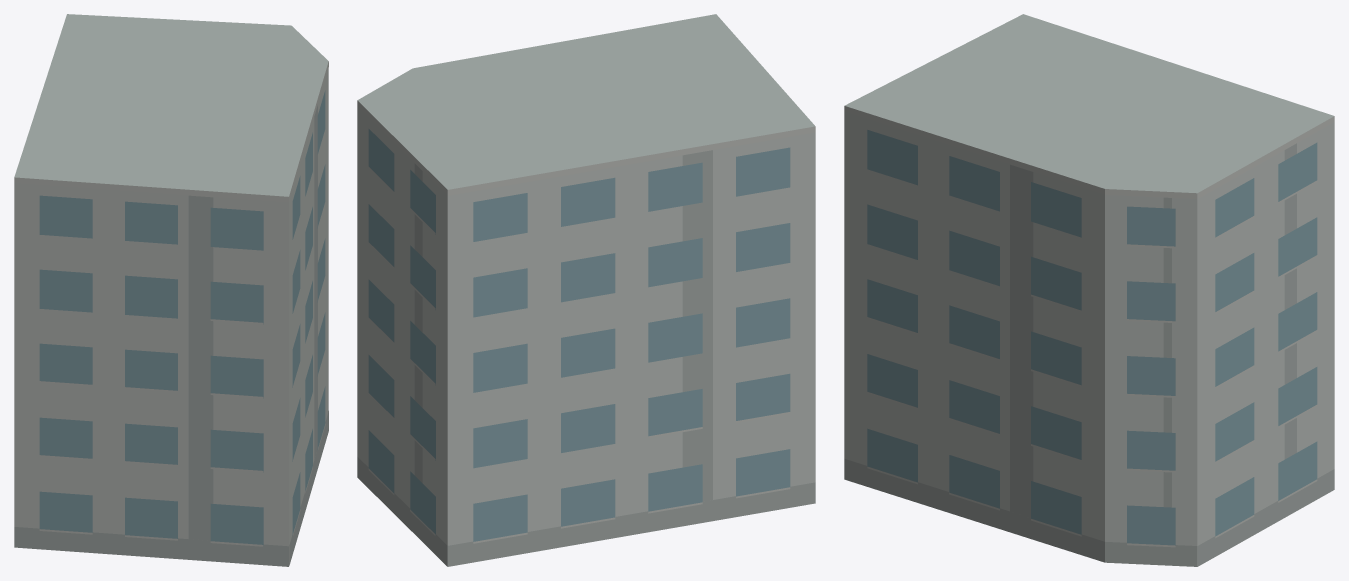
Rendered from survey-upis-32825587.glb.
3 renders of one model, left to right at view 1: azimuth 30°, elevation 25°; view 2: azimuth 150°, elevation 25°; view 3: azimuth 270°, elevation 25°, orthographic.
Visible parts, largest first — view 1: survey-upis-32825587.tmp; view 2: survey-upis-32825587.tmp; view 3: survey-upis-32825587.tmp.
Part boxes in pixels (<box>): survey-upis-32825587.tmp: <box>14,14,328,566</box>; survey-upis-32825587.tmp: <box>357,14,815,566</box>; survey-upis-32825587.tmp: <box>844,14,1334,566</box>.
Bounding box in the file's own units: 15.69 × 15.25 × 18.14.
